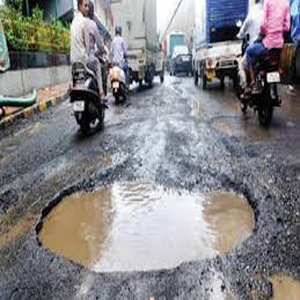pothole: (32, 158, 262, 278)
